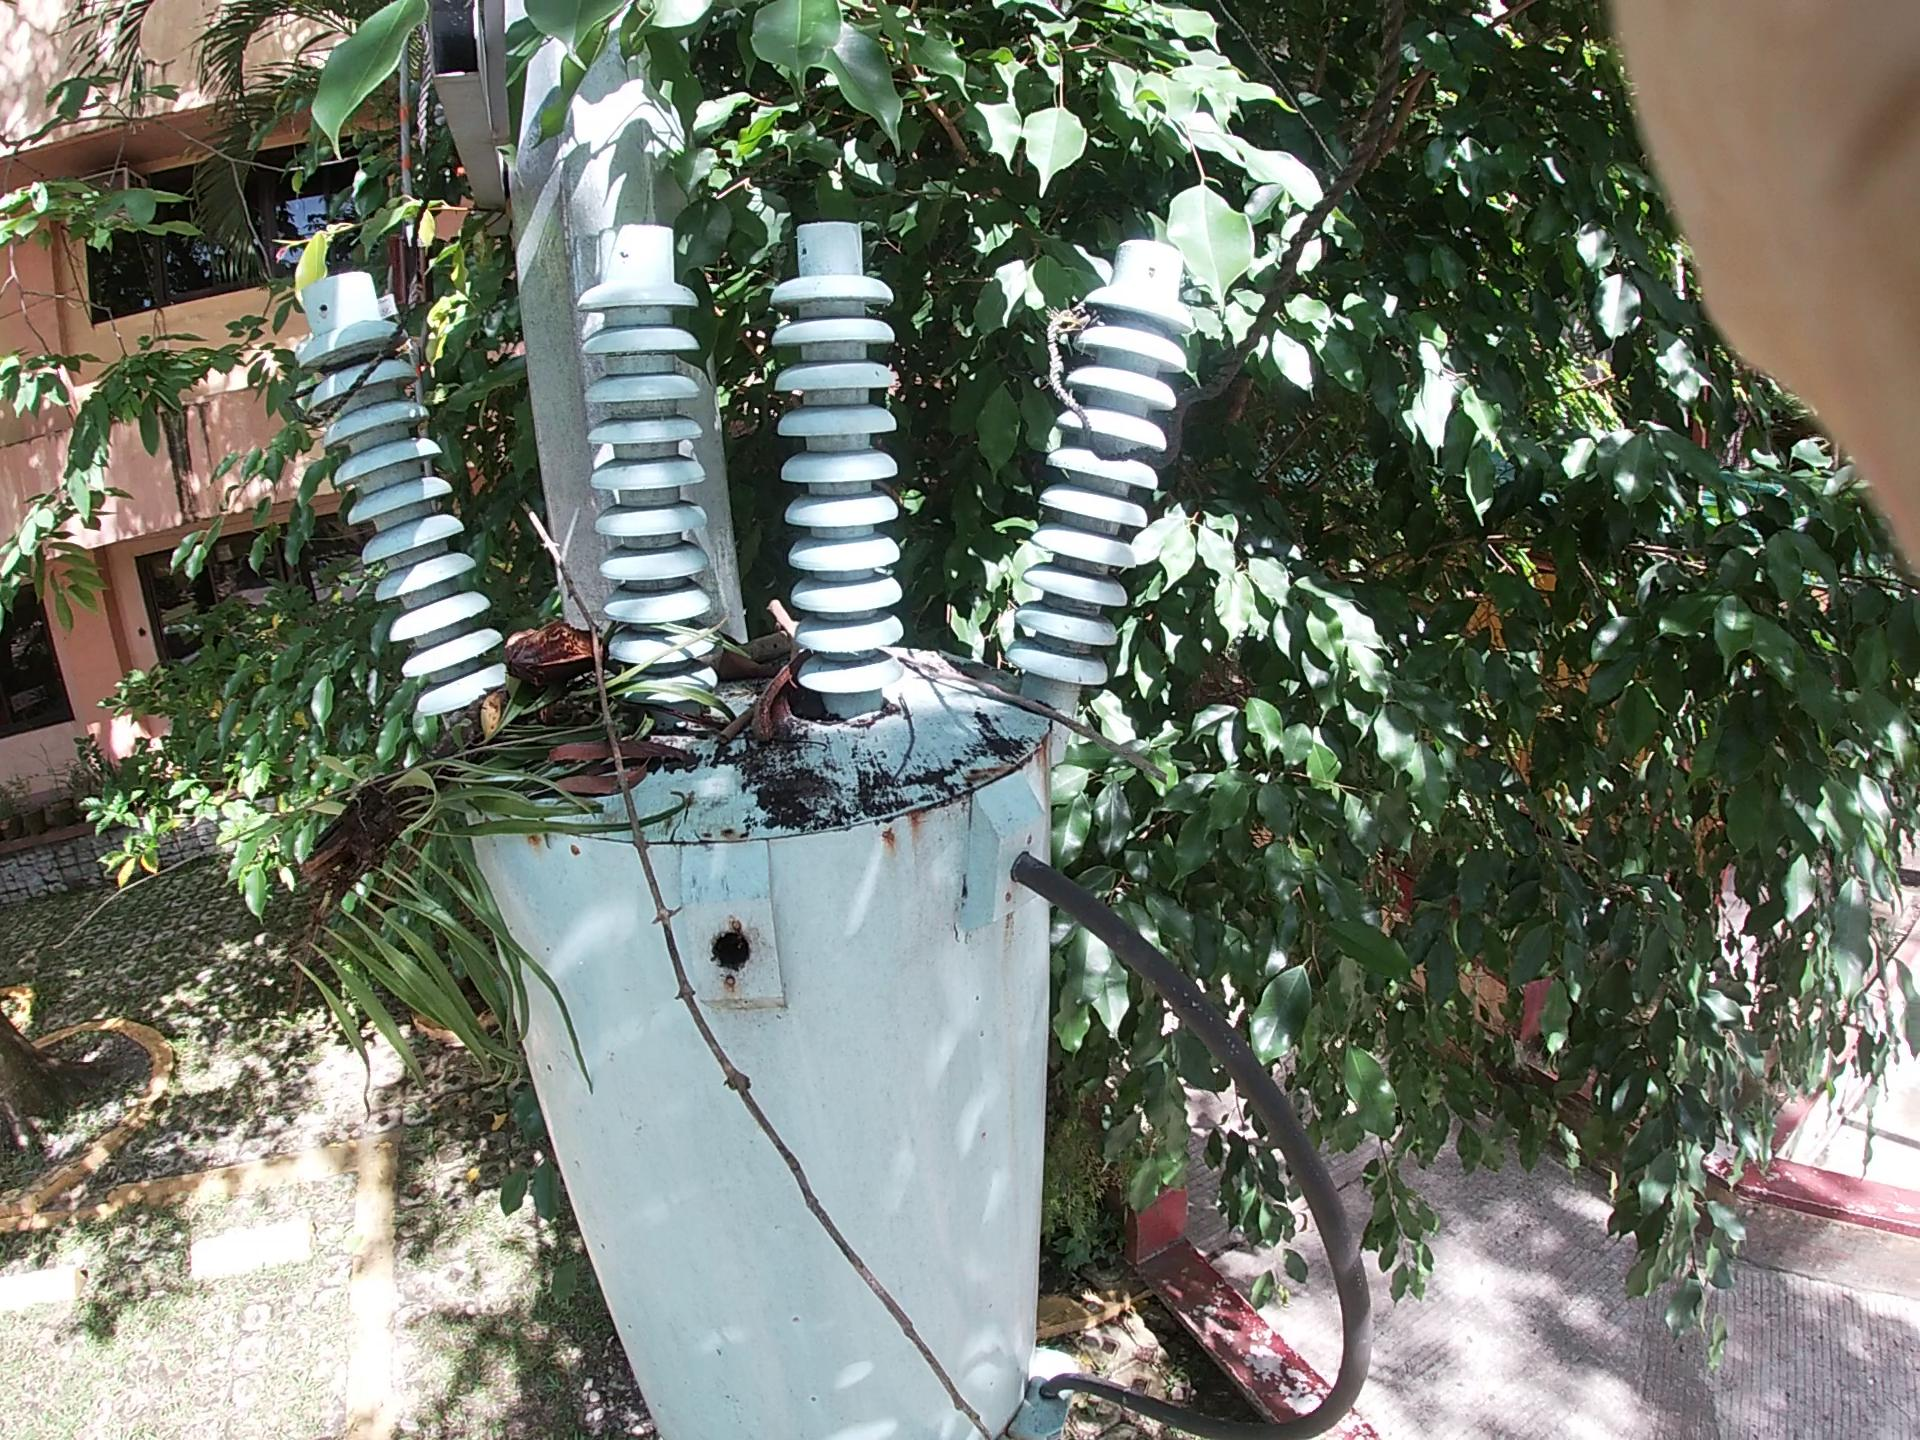branch with leaves: (183, 417, 931, 1044)
leaf: (395, 2, 1255, 321)
mahogany fruit: (708, 625, 822, 753), (490, 616, 632, 712)
tree branch: (425, 489, 980, 1180), (921, 540, 1311, 821), (688, 591, 863, 796)
